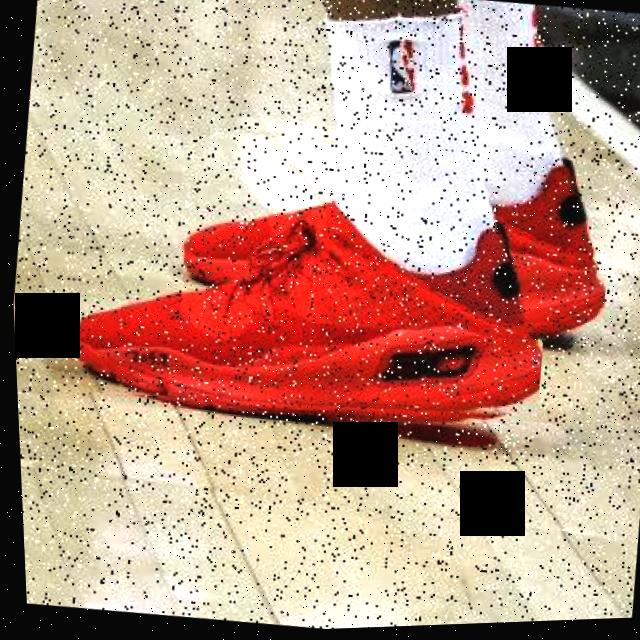shoe: (45, 161, 558, 449), (168, 118, 619, 365)
